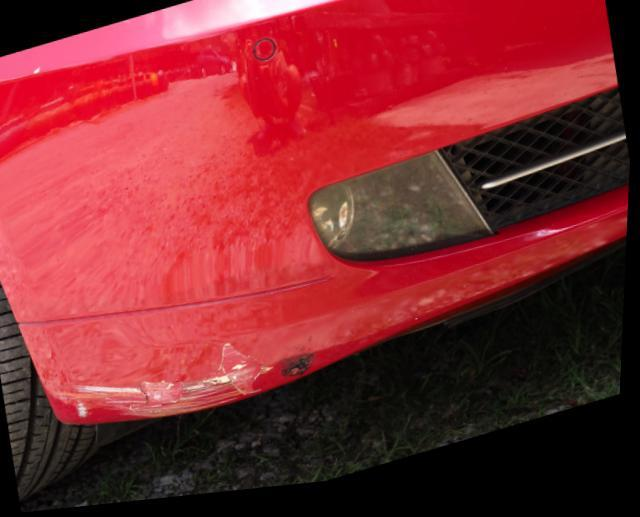scratch: (64, 348, 320, 421)
